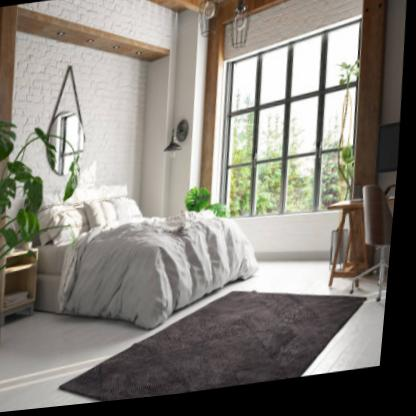Window: (226, 23, 362, 221)
